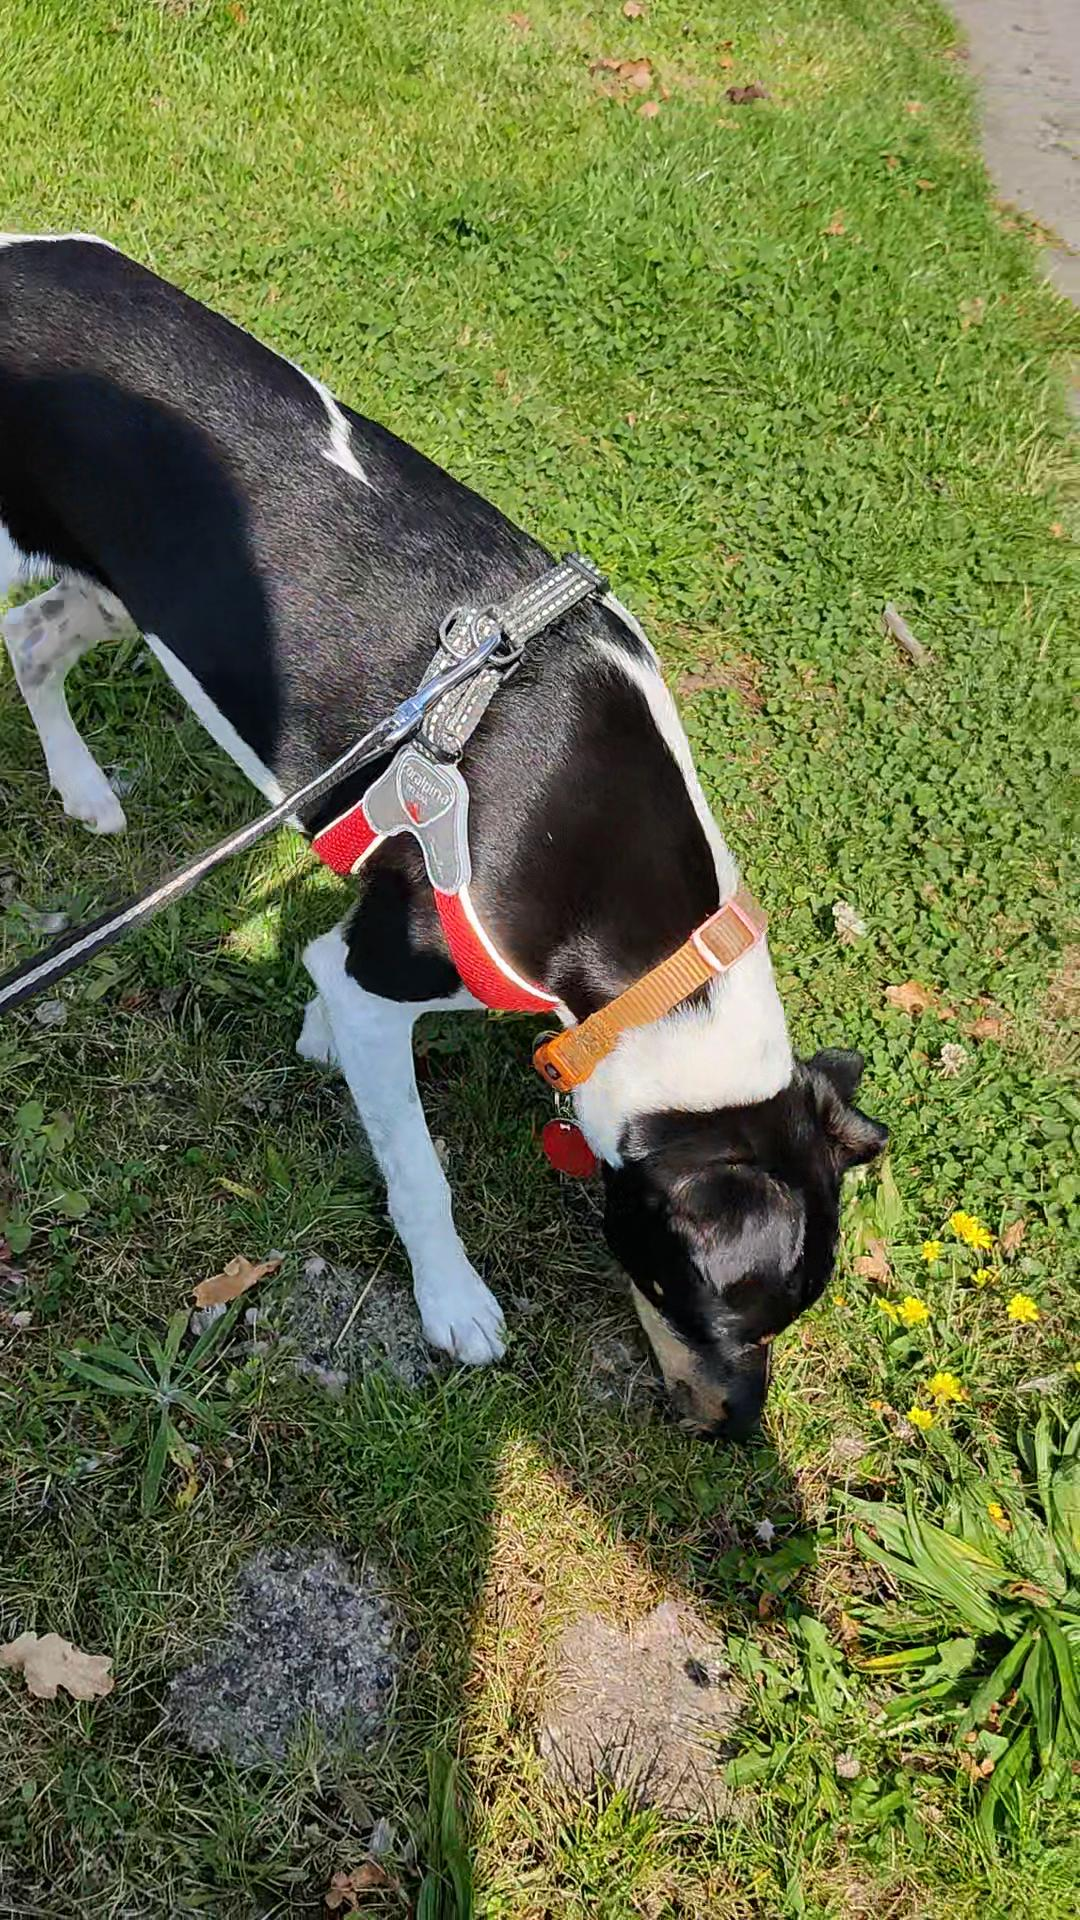Dog: (0, 190, 905, 1456)
